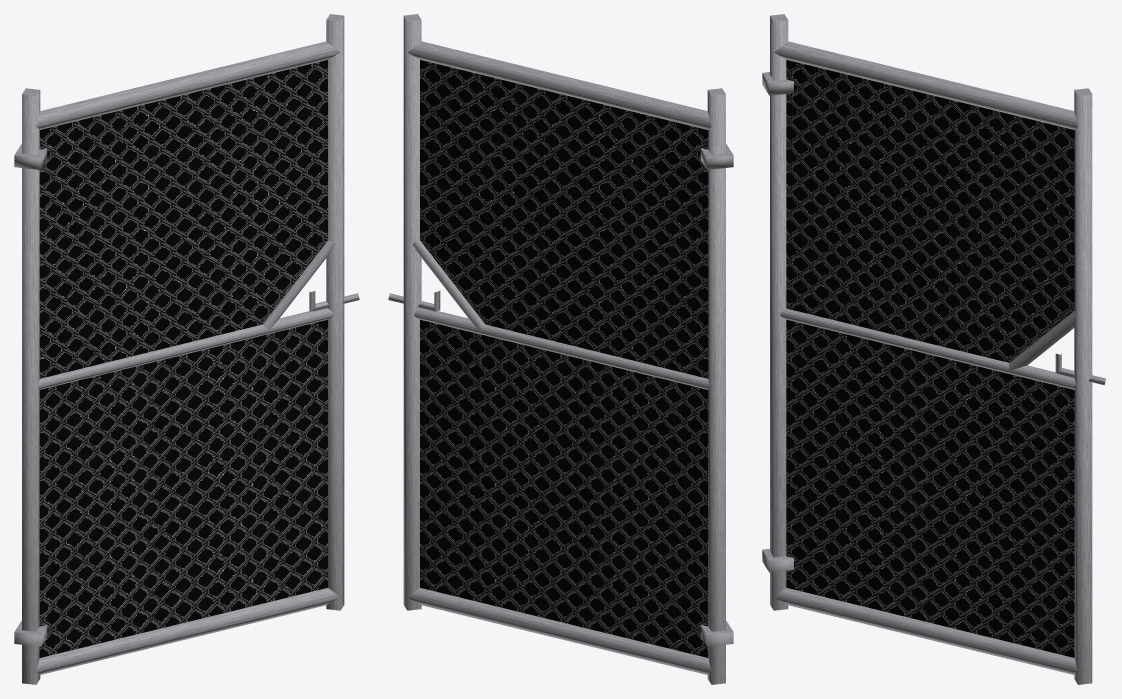
Rendered from fence-tall-gate-1m-cbj_LOD02.gltf.
3 renders of one model, left to right at view 1: azimuth 30°, elevation 25°; view 2: azimuth 150°, elevation 25°; view 3: azimuth 330°, elevation 25°, orthographic.
Parts seen in each view (by area): view 1: gate2; view 2: gate2; view 3: gate2.
Boxes of the visible parts, x1,y1,x2,y2 form: gate2: [14, 14, 359, 684]; gate2: [388, 14, 733, 684]; gate2: [762, 14, 1105, 684].
Size of what is drawn, in the model's own units: 1.13 by 1.85 by 0.1109.
